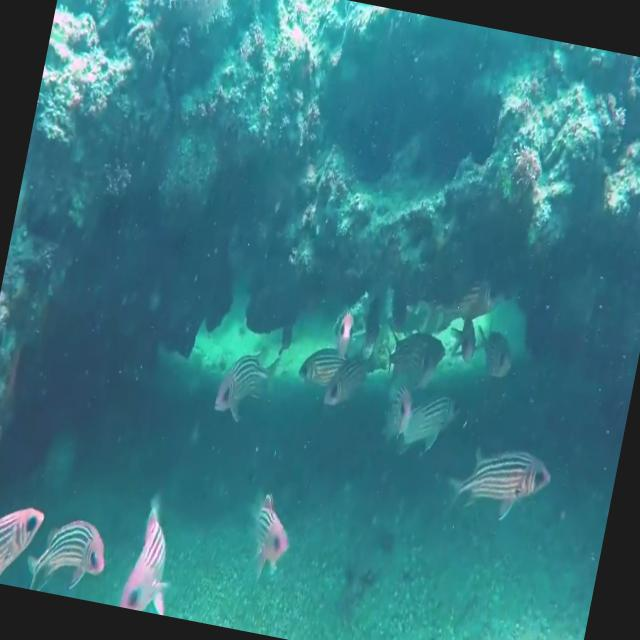Asker Baligi: (448, 435, 555, 530), (391, 365, 472, 471), (20, 510, 120, 594), (208, 336, 282, 434), (244, 488, 298, 582), (322, 346, 387, 422), (472, 316, 526, 397), (388, 321, 441, 384)
